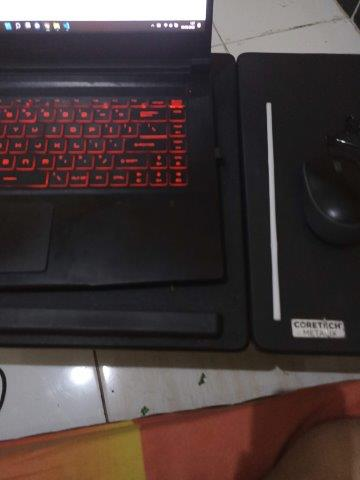sedotan: (266, 103, 279, 320)
